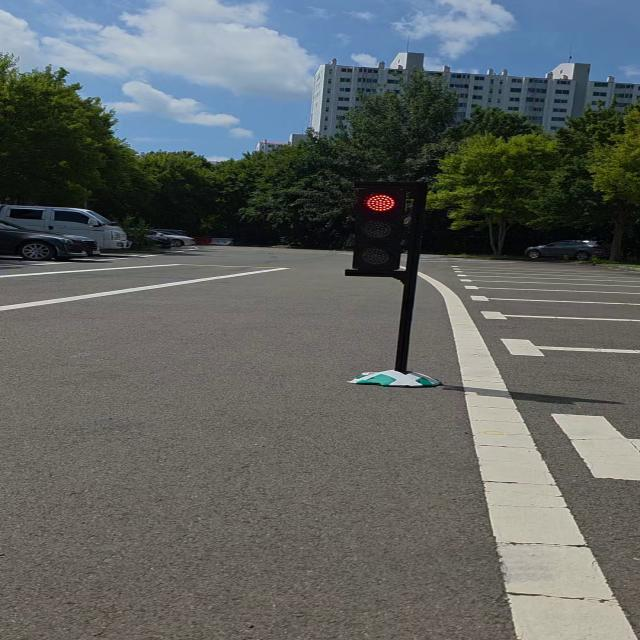red: (347, 188, 410, 279)
